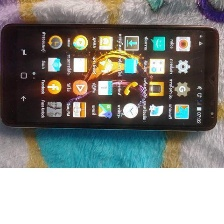phone: (0, 16, 221, 137)
